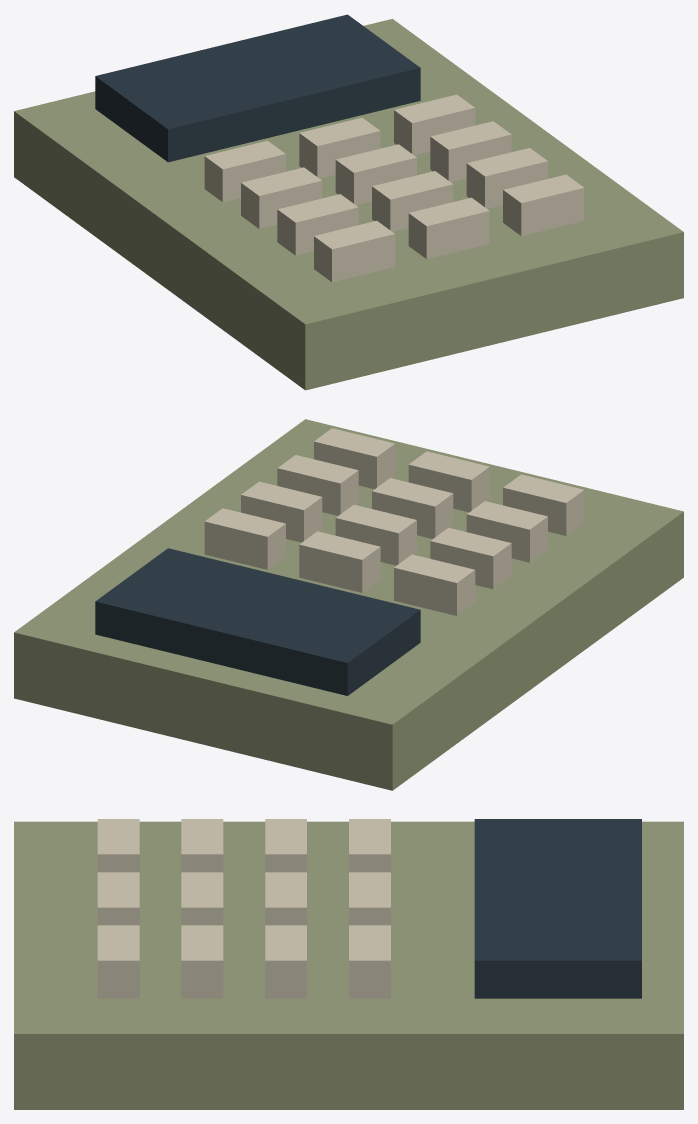
Rendered from property-14.glb.
The picture shows the model from 3 angles, top to bottom: view 1: azimuth 30°, elevation 25°; view 2: azimuth 150°, elevation 25°; view 3: azimuth 270°, elevation 25°; orthographic projection. The views are drawn at different scales.
Parts seen in each view (by area): view 1: Mortgage calculator; view 2: Mortgage calculator; view 3: Mortgage calculator.
Part boxes in pixels (x1=…): Mortgage calculator: x1=14, y1=14, x2=683, y2=390; Mortgage calculator: x1=14, y1=419, x2=683, y2=790; Mortgage calculator: x1=14, y1=819, x2=683, y2=1109.
Size of the model in its own units: 0.96 by 0.24 by 1.28.
